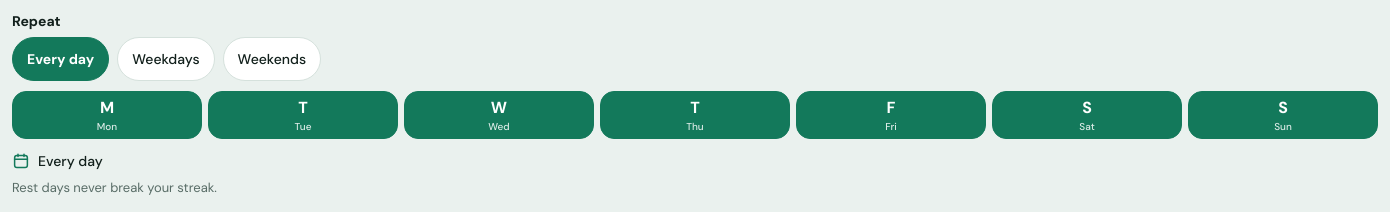
Test: DayPicker › toggles days and follows the quick picks
The image size is (1390, 212).
Click the button "Weekdays" at (166, 59), box 117,37 -> 215,81
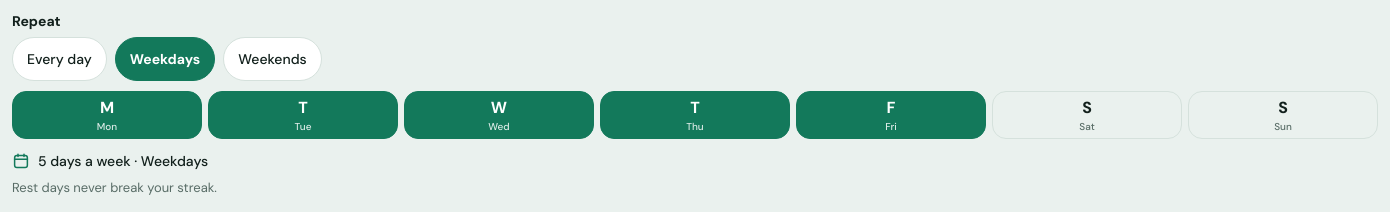
Expected: the text "5 days a week · Weekdays" is shown, 38,151 -> 208,171
Click the button with aria-label "Saturday" at (1087, 115), box 992,91 -> 1182,139
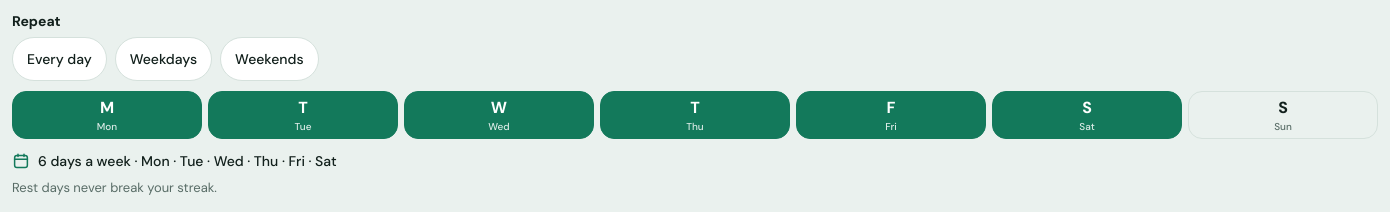
Expected: the text "6 days a week · Mon · Tue · Wed · Thu · Fri · Sat" is shown, 38,151 -> 337,171
Click the button "Weekends" at (269, 59), box 220,37 -> 319,81
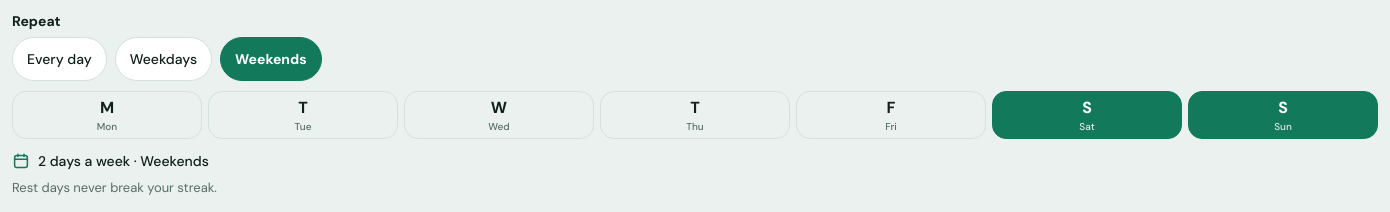
Expected: the text "2 days a week · Weekends" is shown, 38,151 -> 209,171
